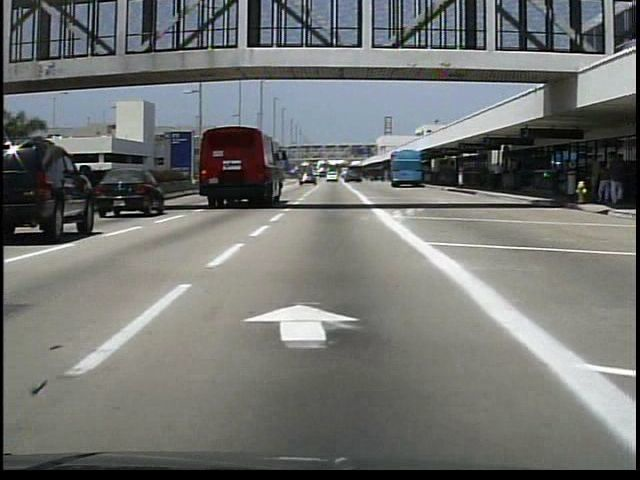person: (494, 163, 506, 192)
